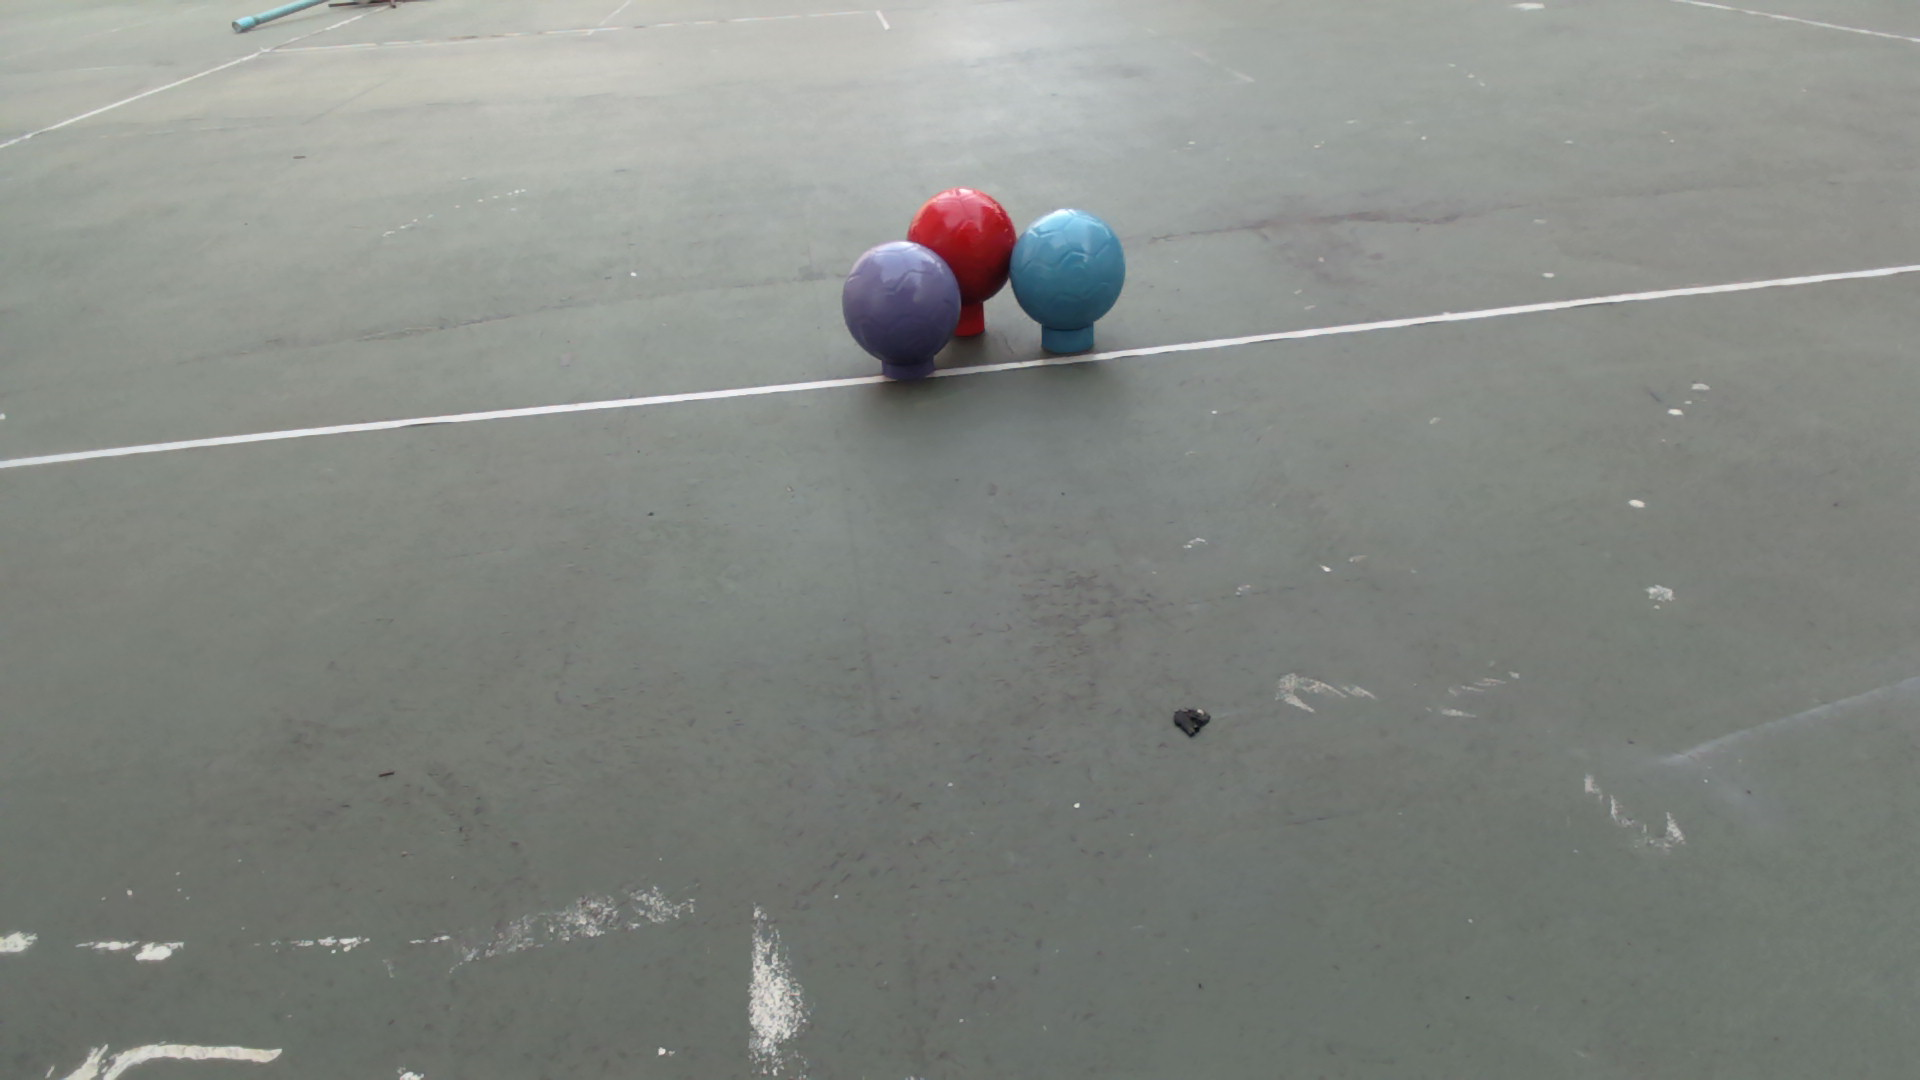Blue ball: (1010, 204, 1127, 331)
Purple ball: (837, 239, 963, 367)
Red ball: (906, 186, 1018, 303)
